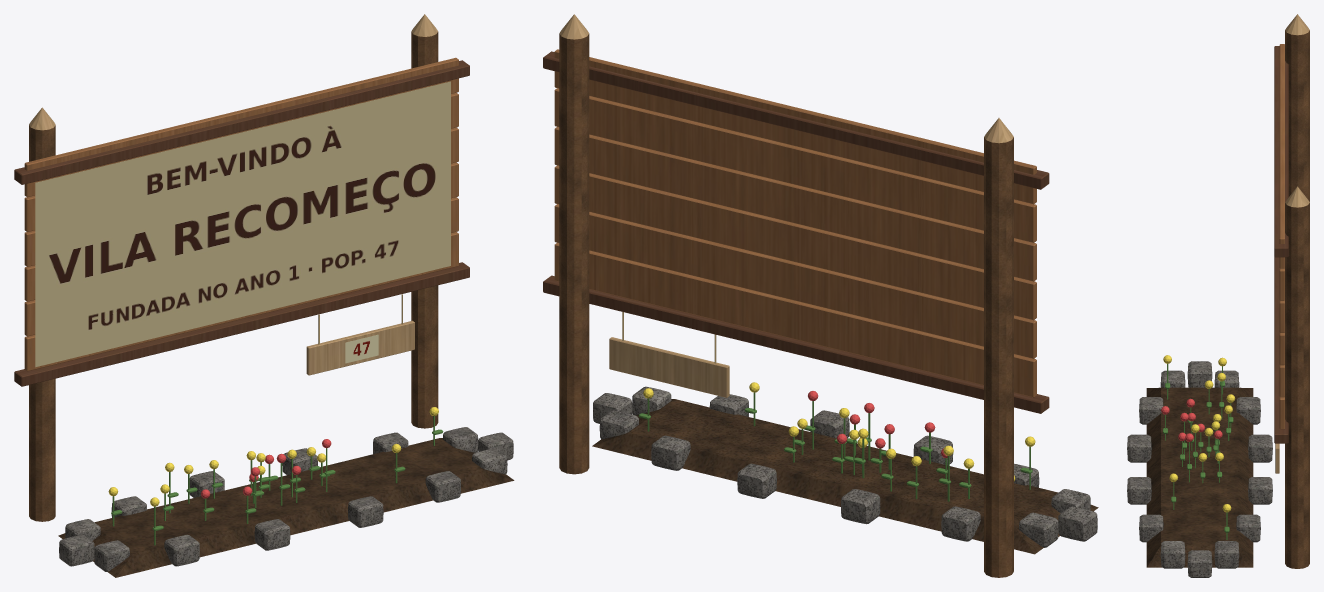
The model's file is placa_boas_vindas.glb.
3 renders of one model, left to right at view 1: azimuth 30°, elevation 25°; view 2: azimuth 150°, elevation 25°; view 3: azimuth 270°, elevation 25°, orthographic. The views are drawn at different scales.
Visible parts, largest first — view 1: placa_boas_vindas_placa_vila, placa_boas_vindas_terra, placa_boas_vindas_madeira_escura, placa_boas_vindas_pedra, placa_boas_vindas_madeira, placa_boas_vindas_madeira_lenha, placa_boas_vindas_madeira_crua, placa_boas_vindas_muda, placa_boas_vindas_flor_amarela, placa_boas_vindas_placa_pop; view 2: placa_boas_vindas_madeira, placa_boas_vindas_madeira_lenha, placa_boas_vindas_terra, placa_boas_vindas_madeira_escura, placa_boas_vindas_pedra, placa_boas_vindas_madeira_crua, placa_boas_vindas_muda, placa_boas_vindas_flor_amarela; view 3: placa_boas_vindas_terra, placa_boas_vindas_madeira_lenha, placa_boas_vindas_pedra, placa_boas_vindas_madeira_escura, placa_boas_vindas_madeira, placa_boas_vindas_muda, placa_boas_vindas_flor_amarela, placa_boas_vindas_madeira_crua, placa_boas_vindas_flor_vermelha.
Boxes of the visible parts, box(x1,y1,x2,y2) form: placa_boas_vindas_placa_vila: box(35, 81, 450, 367); placa_boas_vindas_terra: box(58, 438, 514, 577); placa_boas_vindas_madeira_escura: box(14, 60, 469, 386); placa_boas_vindas_pedra: box(59, 427, 513, 571); placa_boas_vindas_madeira: box(24, 57, 458, 371); placa_boas_vindas_madeira_lenha: box(29, 32, 438, 521); placa_boas_vindas_madeira_crua: box(29, 14, 437, 375); placa_boas_vindas_muda: box(111, 416, 443, 545); placa_boas_vindas_flor_amarela: box(108, 407, 438, 506); placa_boas_vindas_placa_pop: box(345, 334, 378, 363); placa_boas_vindas_madeira: box(554, 49, 1036, 397); placa_boas_vindas_madeira_lenha: box(559, 33, 1013, 577); placa_boas_vindas_terra: box(592, 399, 1098, 554); placa_boas_vindas_madeira_escura: box(543, 51, 1049, 413); placa_boas_vindas_pedra: box(593, 386, 1097, 547); placa_boas_vindas_madeira_crua: box(559, 14, 1013, 397); placa_boas_vindas_muda: box(638, 392, 1032, 501); placa_boas_vindas_flor_amarela: box(643, 382, 1035, 481); placa_boas_vindas_terra: box(1146, 387, 1253, 567); placa_boas_vindas_madeira_lenha: box(1285, 30, 1309, 568); placa_boas_vindas_pedra: box(1127, 361, 1272, 577); placa_boas_vindas_madeira_escura: box(1274, 46, 1288, 443); placa_boas_vindas_madeira: box(1279, 44, 1284, 429); placa_boas_vindas_muda: box(1163, 364, 1233, 539); placa_boas_vindas_flor_amarela: box(1163, 355, 1235, 512); placa_boas_vindas_madeira_crua: box(1275, 14, 1309, 473); placa_boas_vindas_flor_vermelha: box(1161, 398, 1222, 441).
Bounding box in the file's own units: 2.7 × 2.36 × 1.03.
12 materials, 9 textured.
